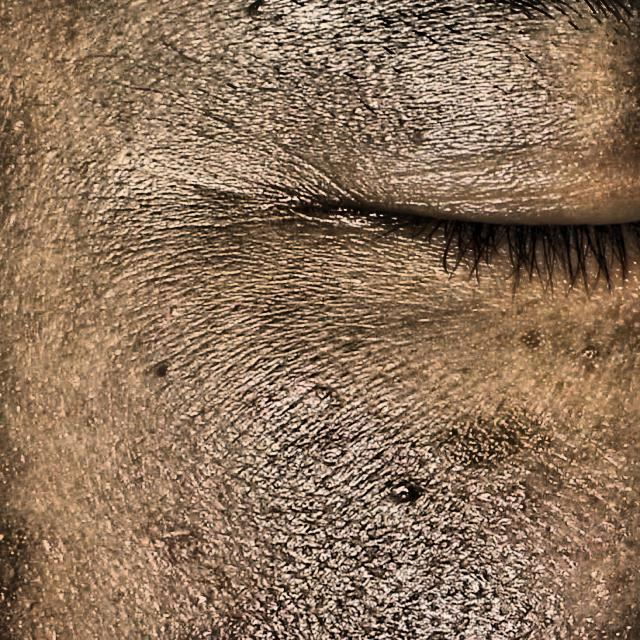whiteheads: (390, 483, 420, 504), (311, 384, 337, 405), (584, 347, 601, 363), (321, 453, 337, 468), (168, 305, 184, 319), (192, 592, 208, 606), (302, 545, 316, 559), (257, 394, 271, 407), (584, 614, 598, 625), (437, 539, 451, 549), (425, 589, 436, 600), (483, 601, 492, 612)
